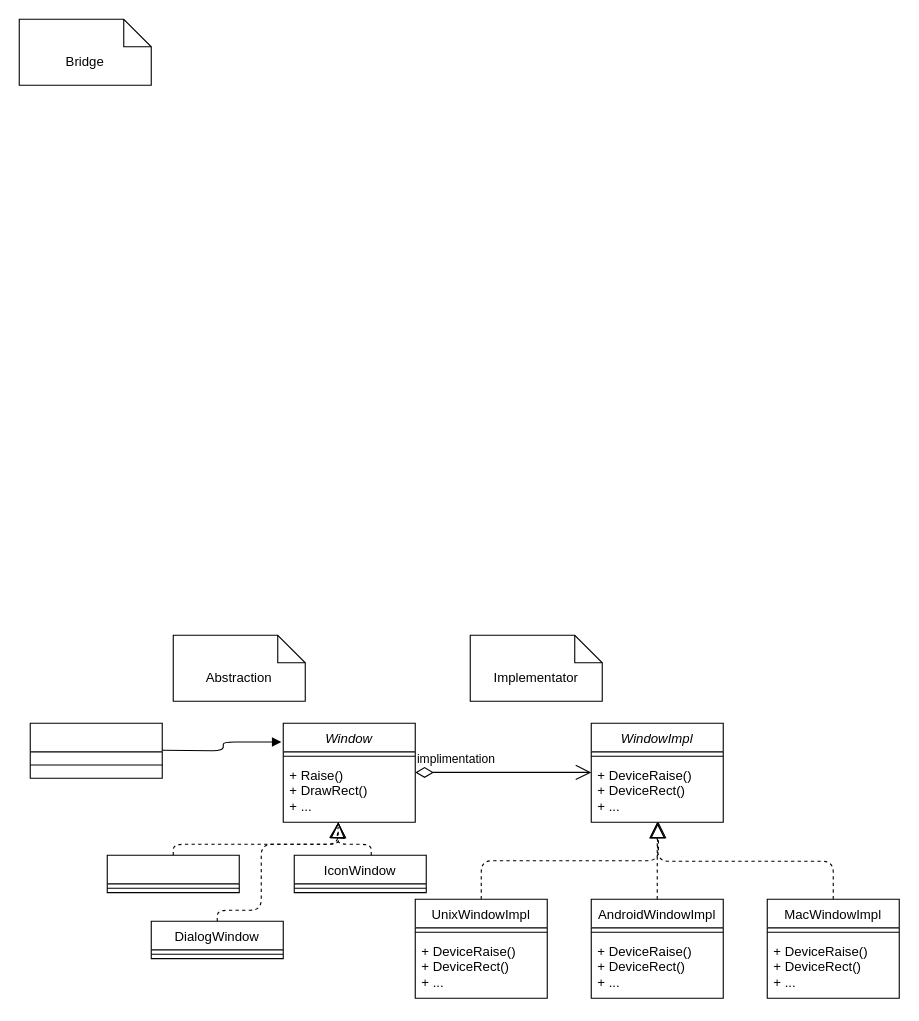
Some shapes in this 919 by 1021 pixel diagram are drawn without their labels. The shapes that lost their labels are listed below. From the top down, each one's centre as x and y in pixels, then its label:
the point at 95,750: Client
the point at 172,873: ApplicationWindow
